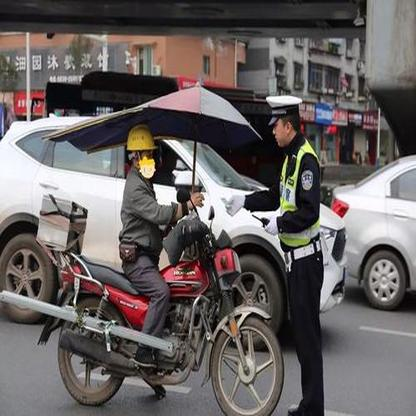target: (31, 124, 290, 412)
